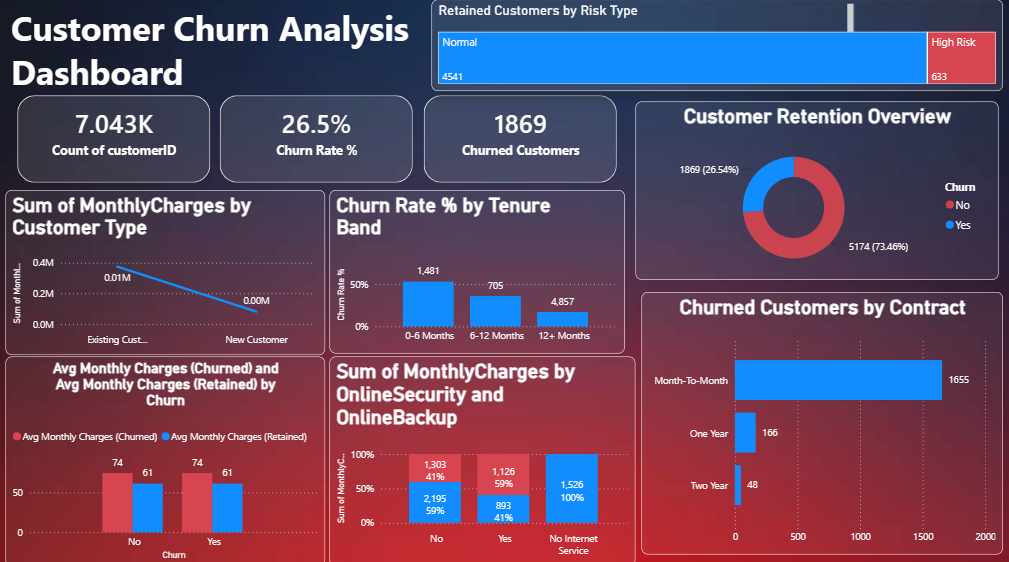

The page's visual inventory and layout, read from the dashboard file:
{"tool":"powerbi","page":{"name":"Dashboard","canvas":[1280,720],"ordinal":0},"visuals":[{"type":"cardVisual","fields":{"Data":["CountNonNull(telco_churn_unclean.customerID)"]},"box":[0,102,291,158.7],"z":0},{"type":"textbox","box":[0,5.7,1082.8,115.3],"z":1000},{"type":"cardVisual","fields":{"Data":["Calculated Measures.Churn Rate %"]},"box":[255.1,102,291,158.7],"z":2000},{"type":"cardVisual","fields":{"Data":["Calculated Measures.Churned Customers"]},"box":[512.1,102,291,158.7],"z":3000},{"type":"treemap","fields":{"Values":["Calculated Measures.Retained Customers"],"Group":["telco_churn_unclean.Risk Type"]},"box":[546.1,5.7,720,115.3],"z":4000},{"type":"donutChart","title":"Customer Retention Overview","fields":{"Y":["Calculated Measures.Total Customers"],"Category":["telco_churn_unclean.Churn"]},"box":[803.2,134.2,457.3,224.9],"z":5000},{"type":"barChart","fields":{"Y":["Calculated Measures.Churned Customers"],"Category":["telco_churn_unclean.Contract"]},"box":[810.7,374.2,455.4,330.7],"z":6000},{"type":"hundredPercentStackedColumnChart","fields":{"Y":["Sum(telco_churn_unclean.MonthlyCharges)"],"Category":["telco_churn_unclean.OnlineSecurity"],"Series":["telco_churn_unclean.OnlineBackup"]},"box":[417.6,455.4,385.5,264.6],"z":7000},{"type":"columnChart","fields":{"Y":["Calculated Measures.Churn Rate %"],"Category":["telco_churn_unclean.Tenure Band"]},"box":[417.6,245.7,372.3,206],"z":8000},{"type":"clusteredColumnChart","fields":{"Y":["Calculated Measures.Avg Monthly Charges (Churned)","Calculated Measures.Avg Monthly Charges (Retained)"],"Category":["telco_churn_unclean.Churn"]},"box":[9.4,455.4,402.5,264.6],"z":9000},{"type":"lineChart","fields":{"Category":["telco_churn_unclean.Customer Type"],"Y":["Sum(telco_churn_unclean.MonthlyCharges)"]},"box":[9.4,245.7,402.5,207.9],"z":10000}]}

Visuals, with their boxes in screenshot pixels (x1, y1, x2, y2), scaled from the page's 1280x720 canvas onto the 1009x562 screenshot:
cardVisual - CountNonNull(telco_churn_unclean.customerID): bbox(0, 80, 229, 203)
textbox: bbox(0, 4, 854, 94)
cardVisual - Calculated Measures.Churn Rate %: bbox(201, 80, 430, 203)
cardVisual - Calculated Measures.Churned Customers: bbox(404, 80, 633, 203)
treemap - Calculated Measures.Retained Customers x telco_churn_unclean.Risk Type: bbox(430, 4, 998, 94)
"Customer Retention Overview" donutChart: bbox(633, 105, 994, 280)
barChart - Calculated Measures.Churned Customers x telco_churn_unclean.Contract: bbox(639, 292, 998, 550)
hundredPercentStackedColumnChart - Sum(telco_churn_unclean.MonthlyCharges) x telco_churn_unclean.OnlineSecurity: bbox(329, 355, 633, 561)
columnChart - Calculated Measures.Churn Rate % x telco_churn_unclean.Tenure Band: bbox(329, 192, 623, 353)
clusteredColumnChart - Calculated Measures.Avg Monthly Charges (Churned) x Calculated Measures.Avg Monthly Charges (Retained): bbox(7, 355, 325, 561)
lineChart - telco_churn_unclean.Customer Type x Sum(telco_churn_unclean.MonthlyCharges): bbox(7, 192, 325, 354)
